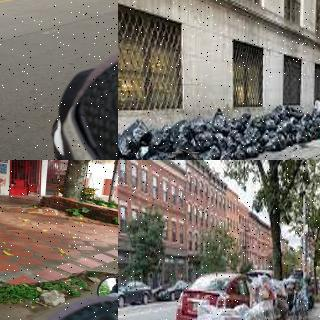Garbage: (124, 118, 156, 146), (134, 151, 176, 160), (170, 150, 201, 160)
